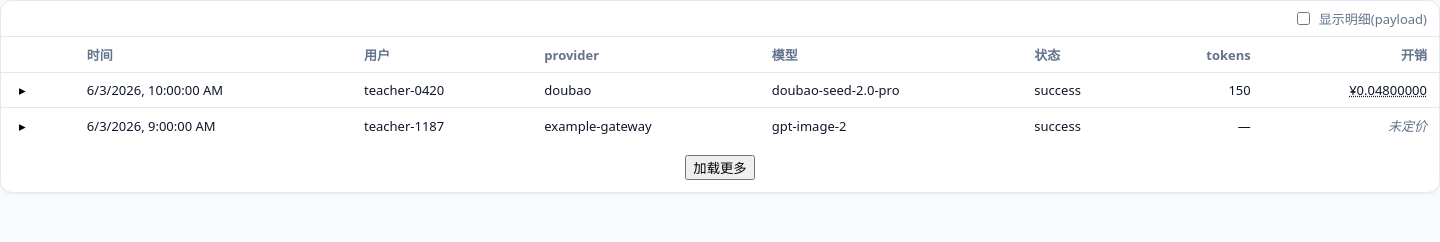
Test: appends page 2 via next_cursor, then shows 没有更多了
Expected: the text "teacher-0420" is shown, [352, 72, 532, 108]
Expected: the text "¥0.04800000" is shown, [1349, 81, 1427, 99]
Click the button "加载更多" at point(720, 168), box [685, 155, 755, 180]
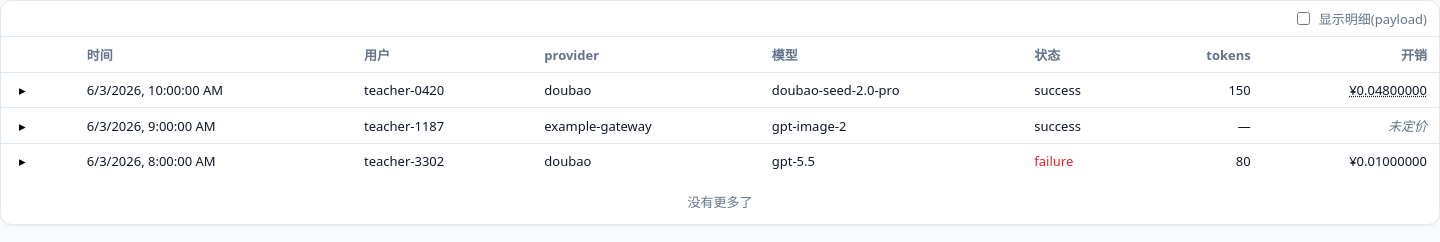
Expected: the text "teacher-0420" is shown, [352, 72, 532, 108]
Now the text "teacher-3302" is shown, box [352, 144, 532, 178]
Now the text "没有更多了" is shown, box [688, 193, 752, 211]
